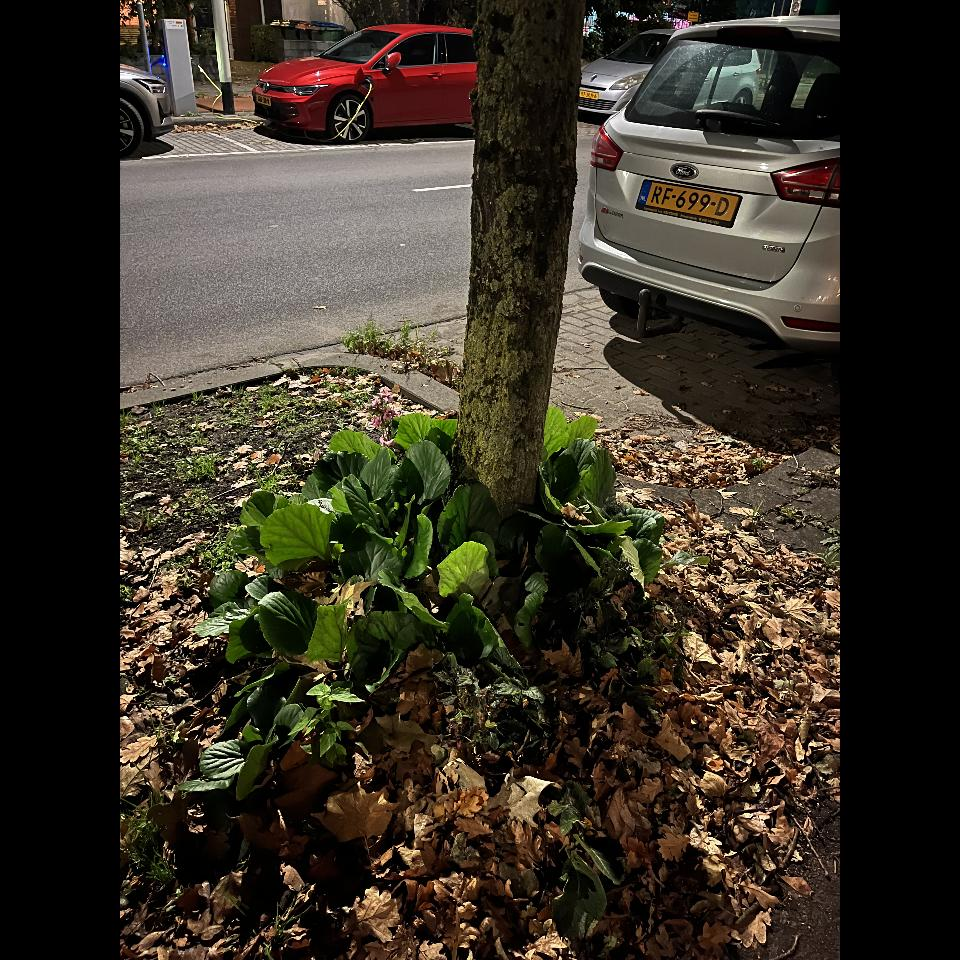weed: (341, 321, 450, 380), (798, 489, 805, 496)
